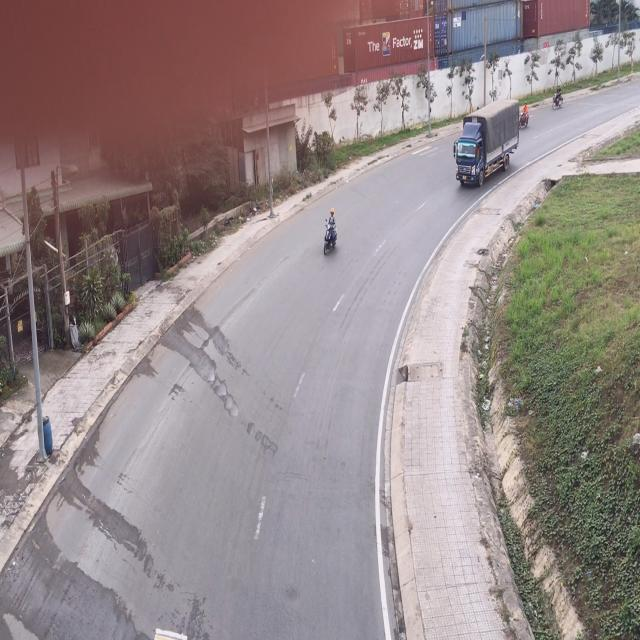motorbike: (324, 206, 342, 258), (520, 98, 530, 130), (552, 86, 562, 109)
truck: (454, 99, 518, 189)
